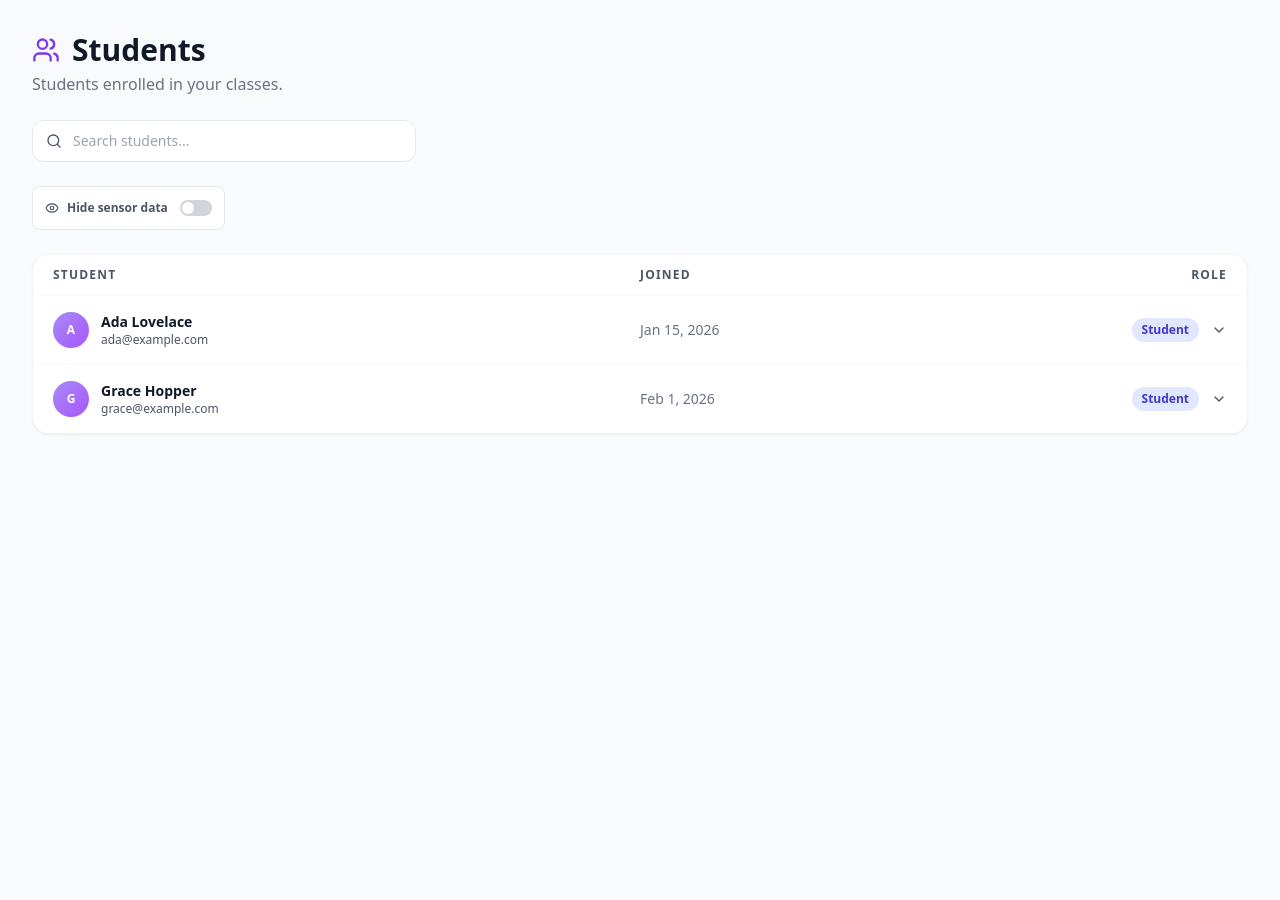
Test: a failed topic read costs the topics panel only
The width and height of the screenshot is (1280, 900).
Step 1. Click the button "A Ada Lovelace ada@example.com Jan 15, 2026 Student" → (640, 330), box [33,296,1247,364]
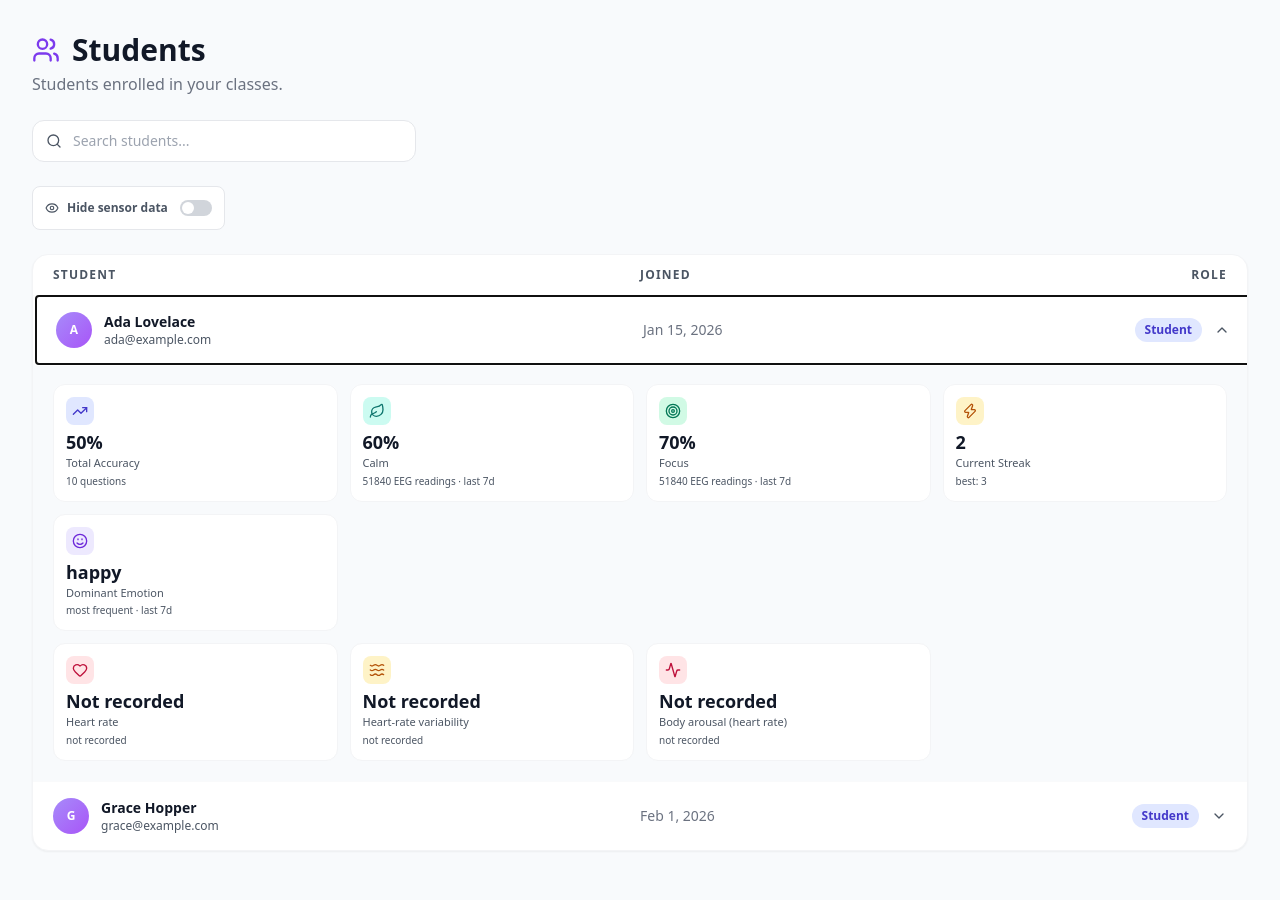
Check: the text "70%" is shown, box [659,430,696,454]
Check: the text "50%" is shown, box [66,430,103,454]
